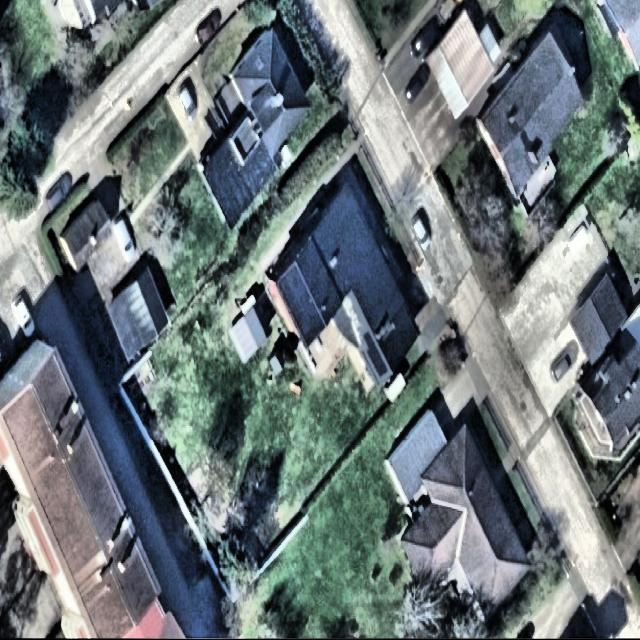roof_pv: (364, 330, 387, 382), (296, 314, 322, 341), (284, 281, 306, 310)
